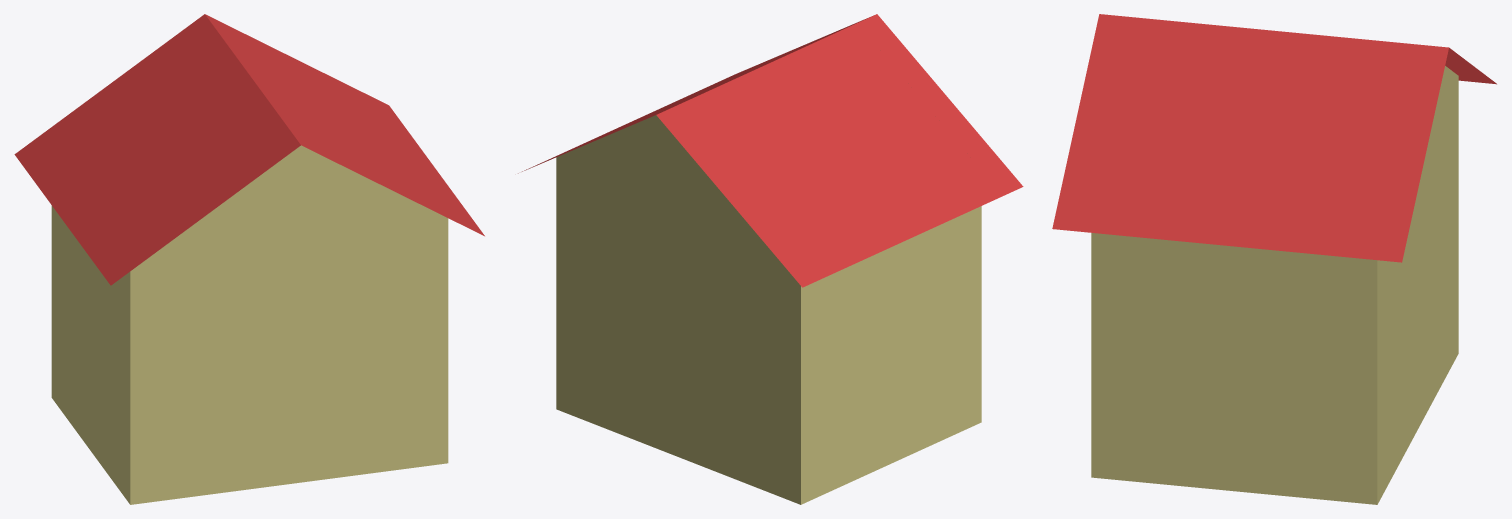
3 renders of one model, left to right at view 1: azimuth 30°, elevation 25°; view 2: azimuth 150°, elevation 25°; view 3: azimuth 270°, elevation 25°, orthographic. The views are drawn at different scales.
Parts seen in each view (by area): view 1: group_5, group_3, group_4; view 2: group_5, group_3, group_4; view 3: group_5, group_3, group_4.
Boxes of the visible parts, x1=… form: group_5: x1=51, y1=145, x2=448, y2=504; group_3: x1=15, y1=14, x2=484, y2=252; group_4: x1=14, y1=14, x2=300, y2=285; group_5: x1=556, y1=115, x2=981, y2=504; group_3: x1=518, y1=15, x2=981, y2=287; group_4: x1=637, y1=14, x2=1023, y2=286; group_5: x1=1091, y1=66, x2=1458, y2=504; group_3: x1=1052, y1=14, x2=1493, y2=262; group_4: x1=1085, y1=44, x2=1496, y2=239.
Size of the model in its own units: 15.35 by 13.65 by 13.06.
